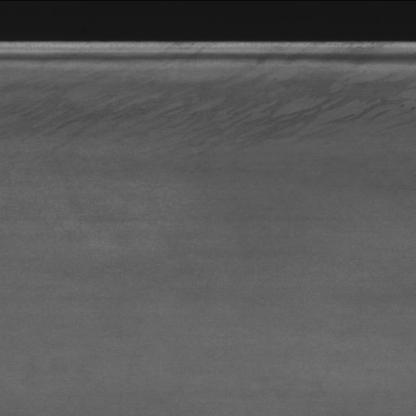water_spot: (3, 71, 414, 157)
